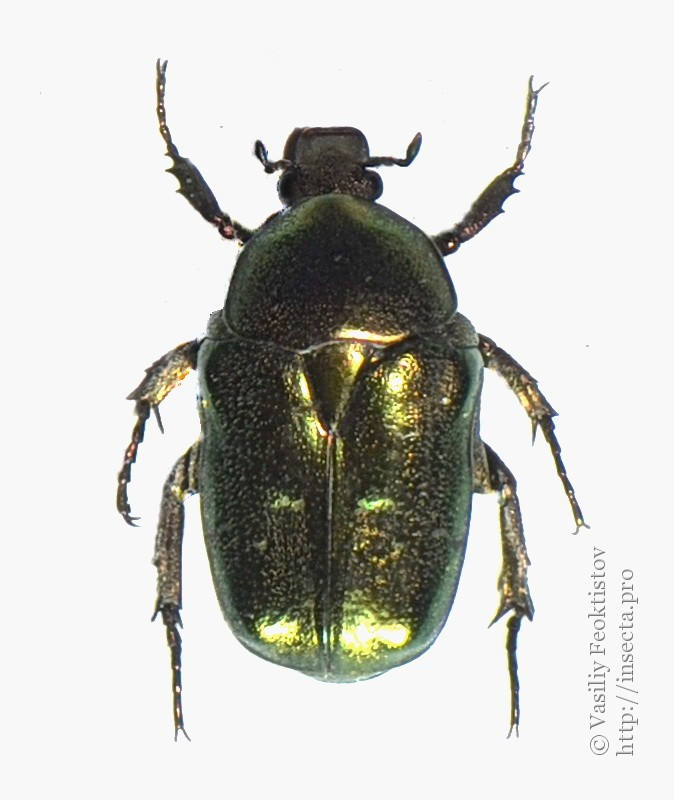Protaetia_fieberi: (112, 52, 591, 757)
